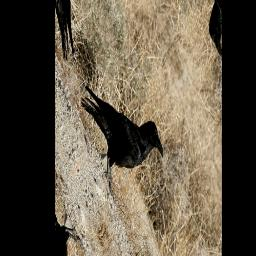Crow: (76, 29, 167, 225)
